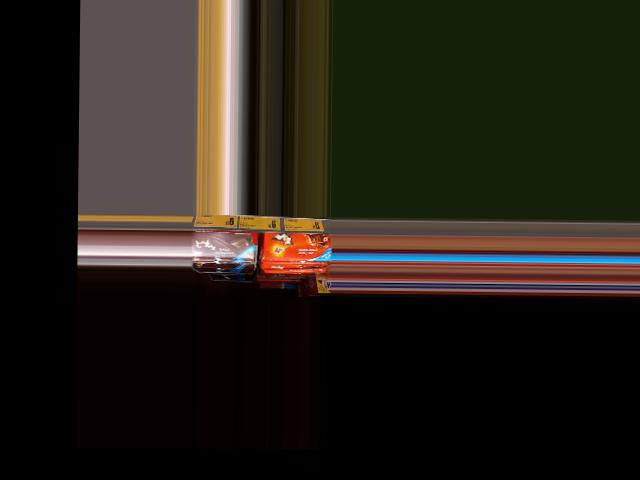chocolate: (190, 223, 251, 262)
